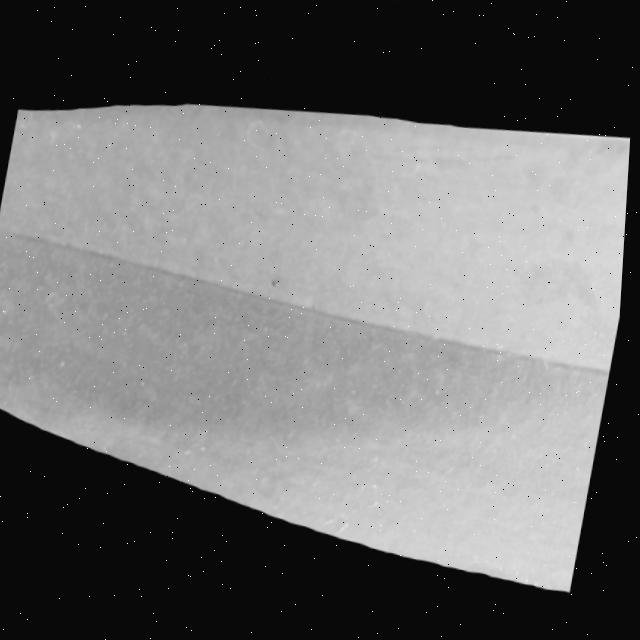mite: (521, 169, 553, 196), (42, 289, 71, 315), (52, 355, 77, 376), (136, 376, 158, 395), (59, 359, 72, 372), (1, 307, 15, 319), (271, 281, 285, 292), (141, 380, 153, 391)
